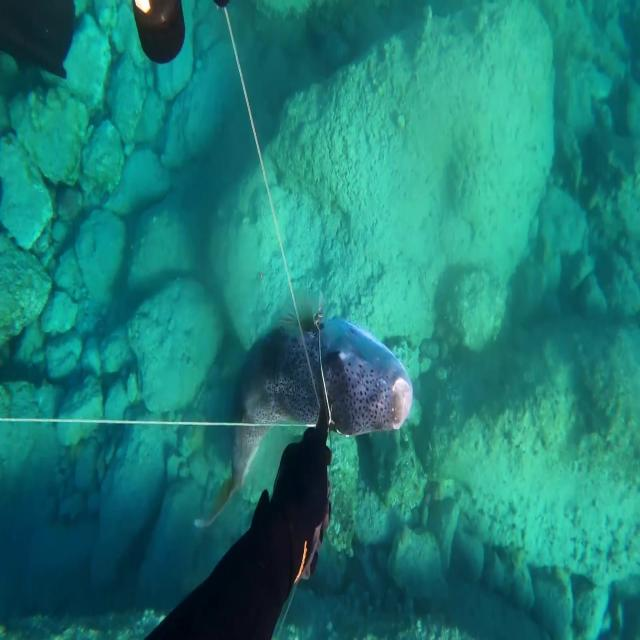Balon Baligi: (194, 289, 413, 528)
